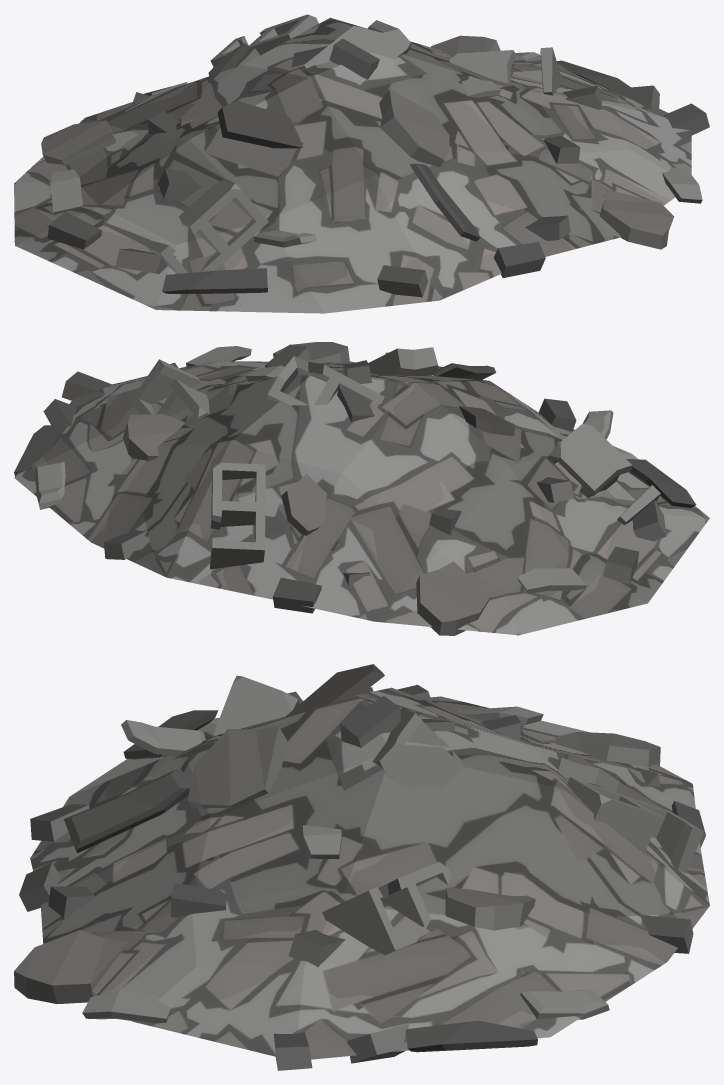
Rendered from SM_Prop_Rubble_Pile_04.fbx.
3 renders of one model, top to bottom at view 1: azimuth 30°, elevation 25°; view 2: azimuth 150°, elevation 25°; view 3: azimuth 270°, elevation 25°, orthographic. The views are drawn at different scales.
Parts seen in each view (by area): view 1: SM_Prop_Rubble_Pile_04; view 2: SM_Prop_Rubble_Pile_04; view 3: SM_Prop_Rubble_Pile_04.
Boxes of the visible parts, x1,y1,x2,y2 form: SM_Prop_Rubble_Pile_04: (14,14,709,313); SM_Prop_Rubble_Pile_04: (14,342,709,635); SM_Prop_Rubble_Pile_04: (14,664,709,1070).
Size of the model in its own units: 304 by 75.06 by 229.
